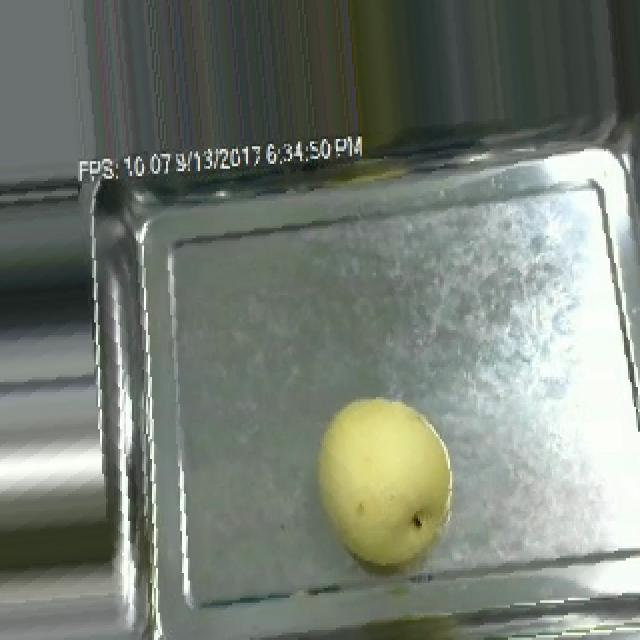Fruit: (302, 384, 470, 576)
